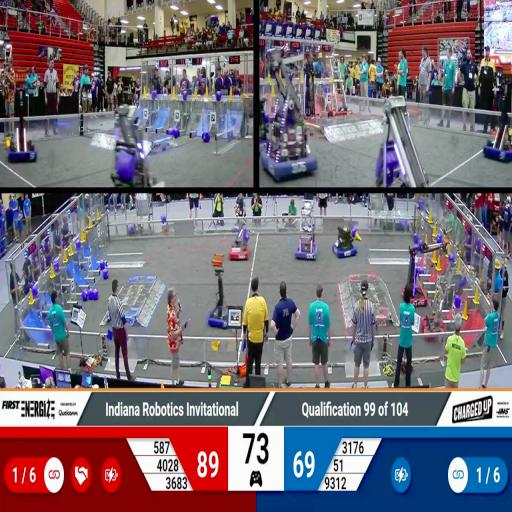robot: (260, 48, 316, 180), (375, 92, 427, 187), (110, 106, 163, 190), (207, 254, 231, 332), (400, 246, 426, 310), (6, 114, 38, 165), (484, 107, 512, 163), (296, 202, 318, 264), (327, 56, 349, 118), (422, 296, 446, 340), (332, 220, 358, 260), (230, 223, 250, 261)
